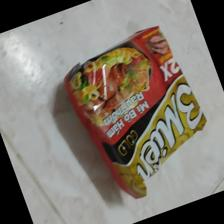3mien: (64, 25, 208, 200)
